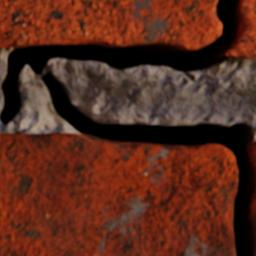broken_brick: (0, 132, 236, 255), (0, 0, 220, 49), (222, 0, 255, 58), (249, 188, 255, 255), (248, 141, 255, 182)
crack: (0, 0, 255, 255)
